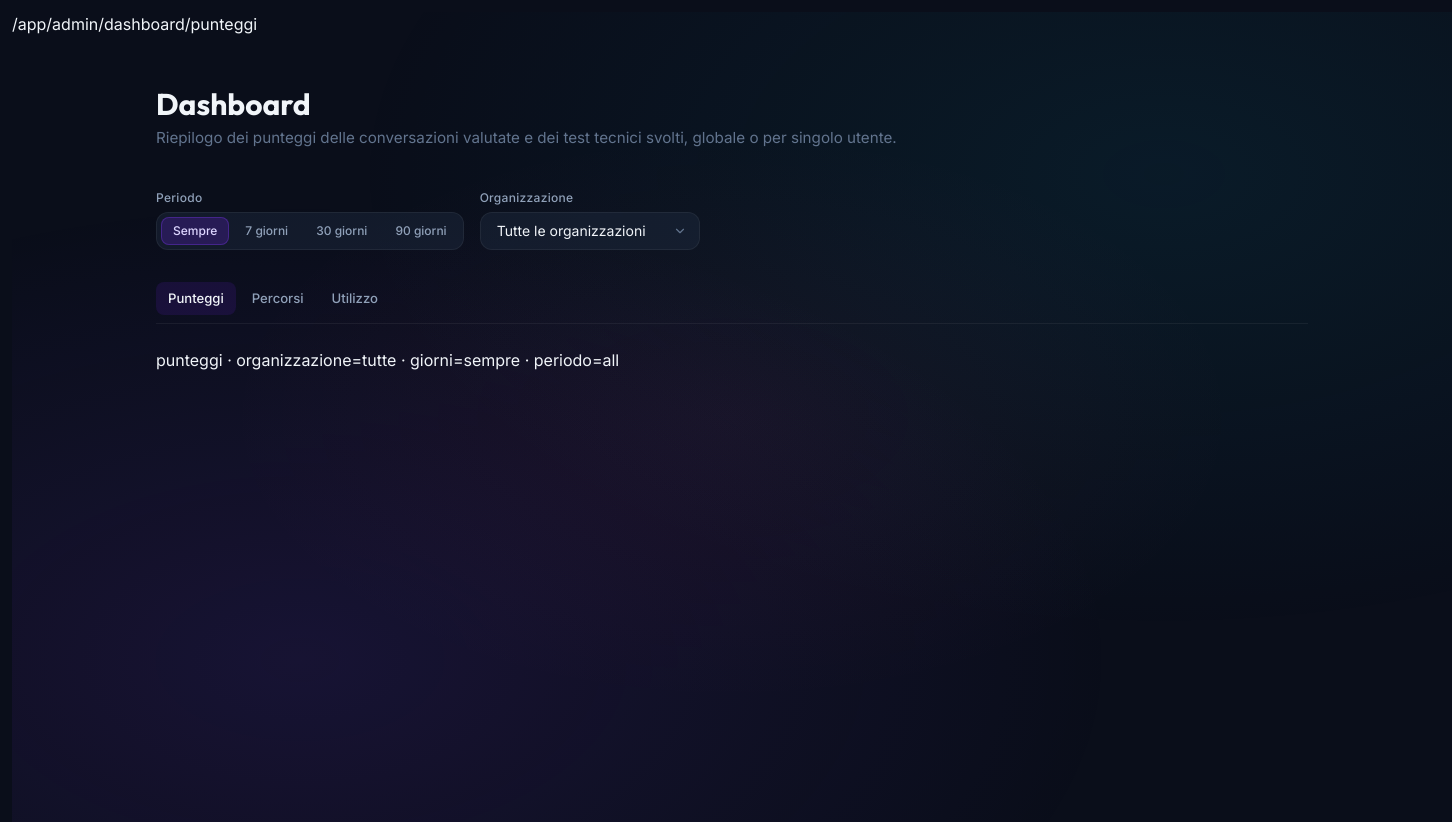
Test case: le viste della sezione › porta a un indirizzo suo ogni vista
Step 1. Click the tab "Percorsi" → (278, 298), box [240,282,316,315]
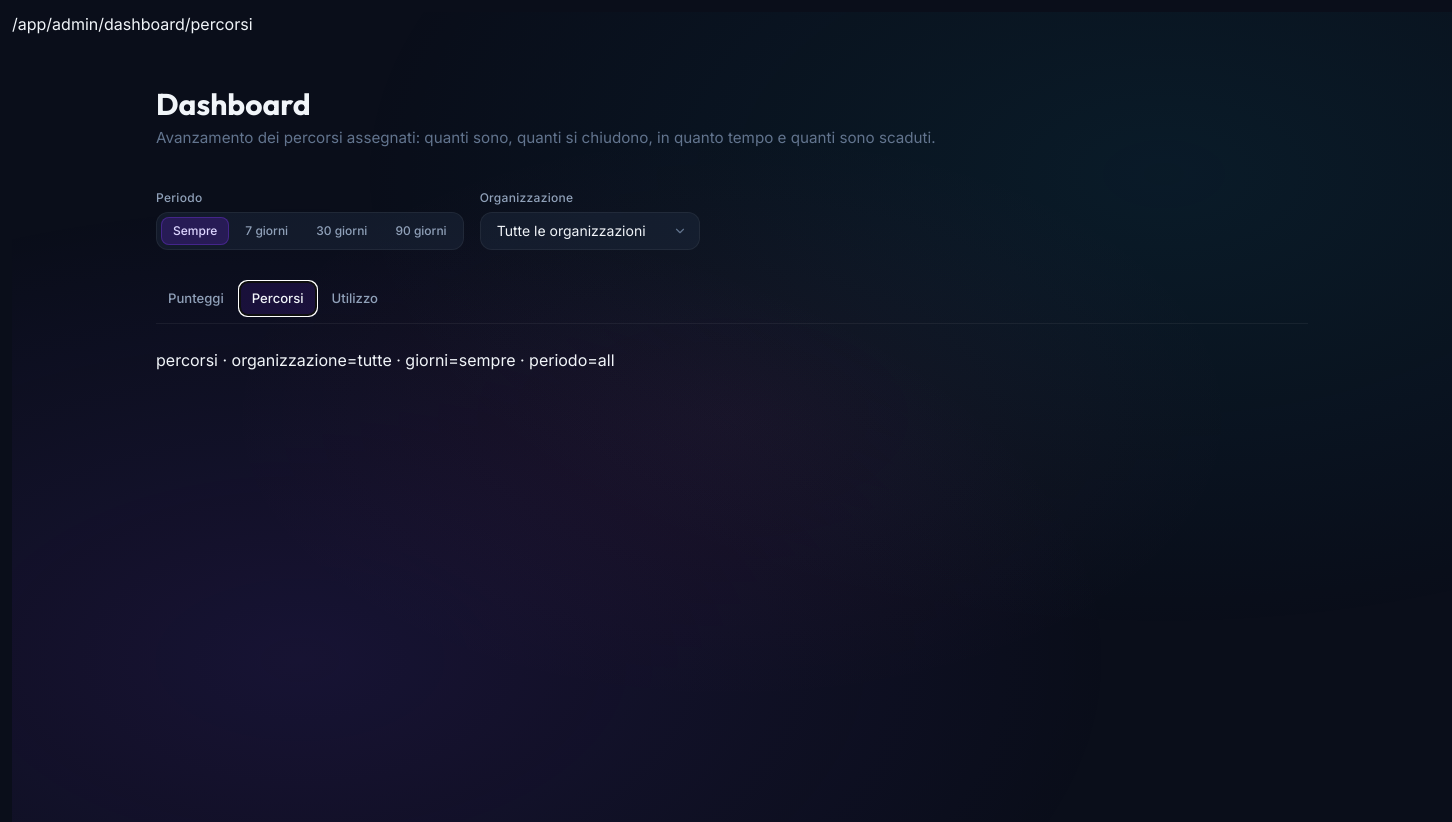
Now the text with test id "indirizzo" reads "/app/admin/dashboard/percorsi", box [12,14,252,34]
Now the text with test id "vista" shows "percorsi", box [156,350,218,370]
